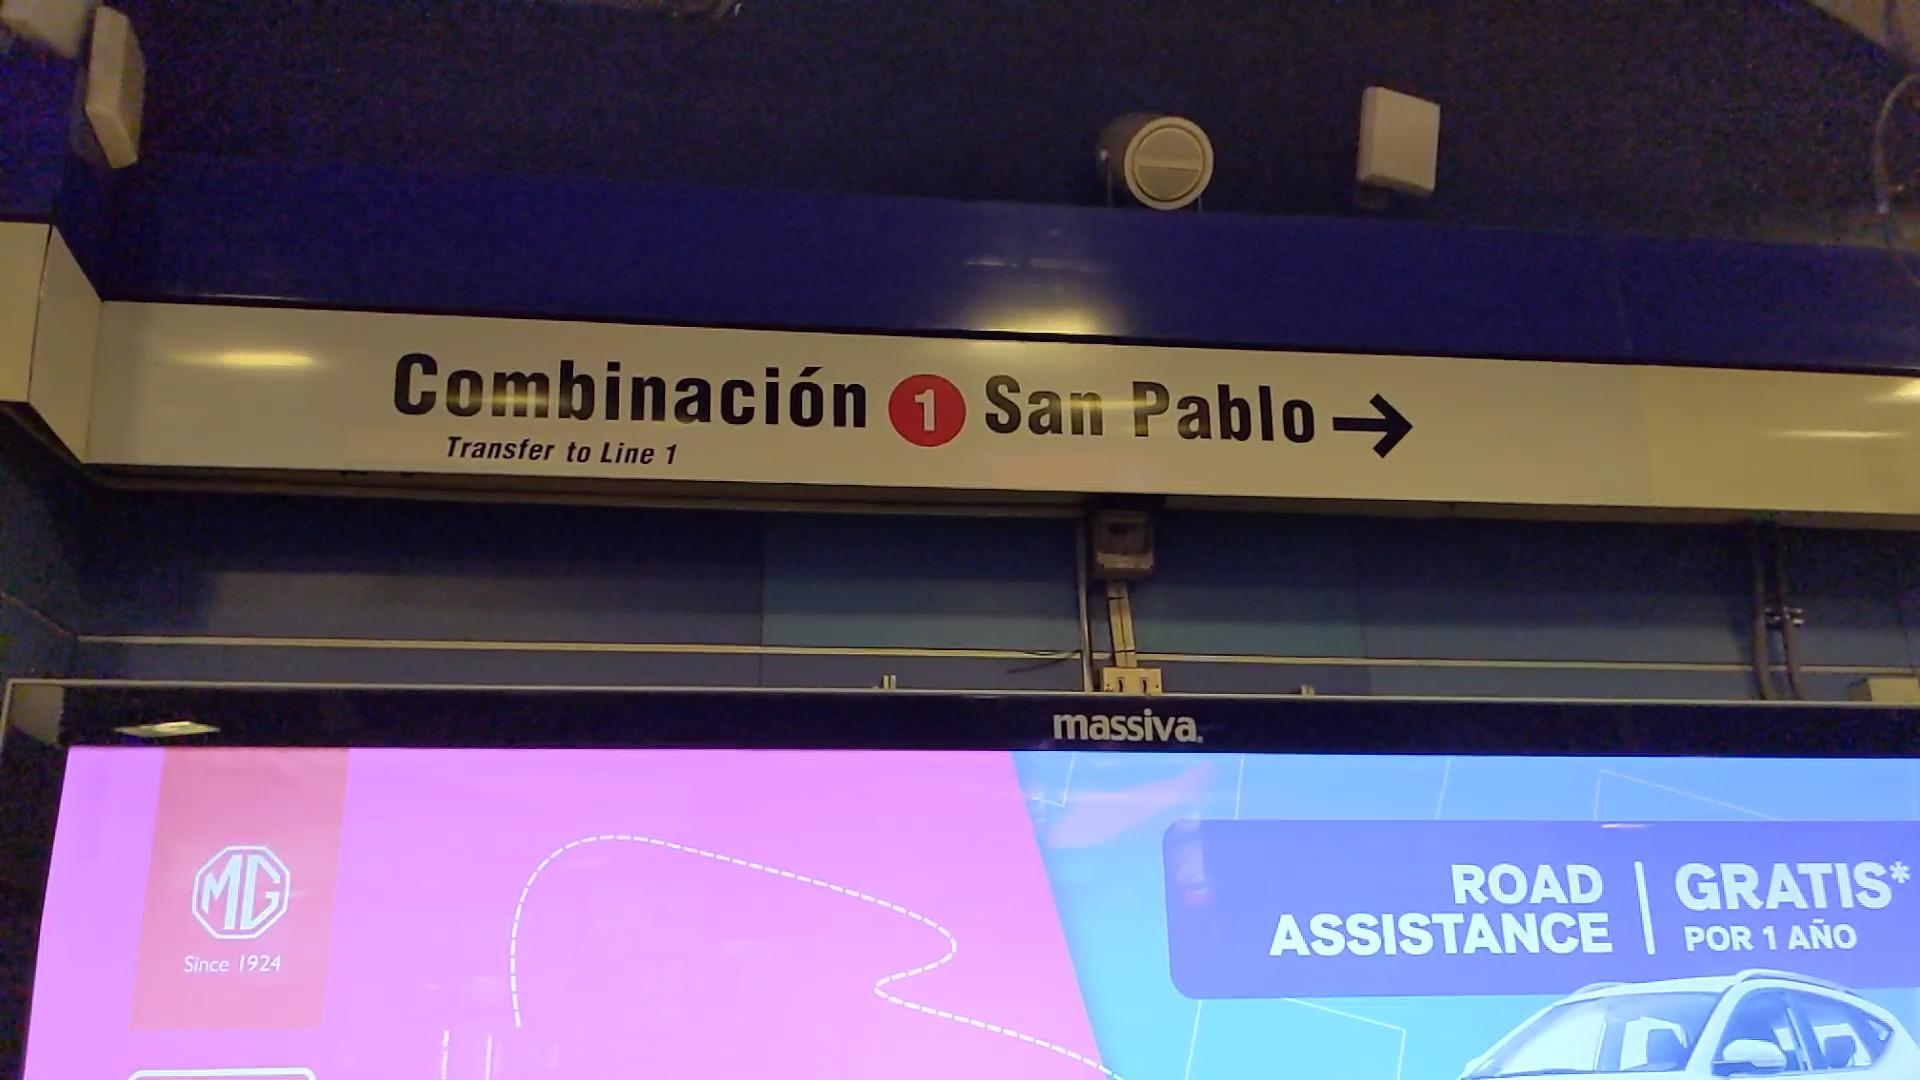right arrow: (1328, 388, 1416, 465)
